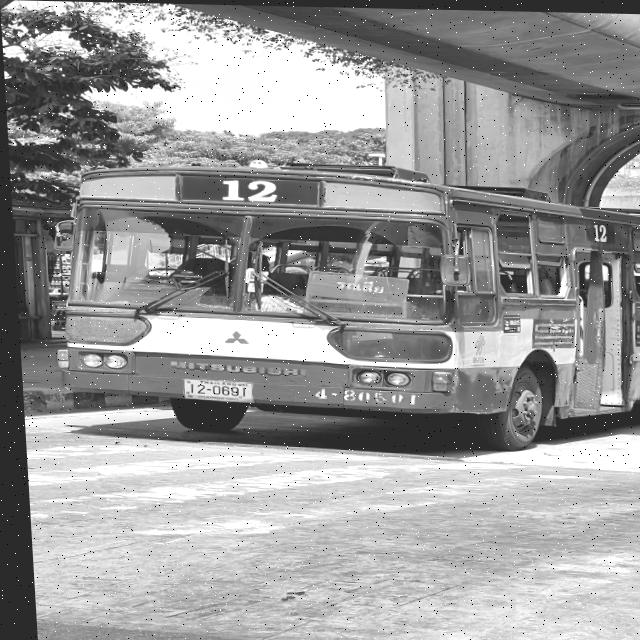BMTA-bus: (41, 160, 640, 452)
Bus-Line-Number: (197, 172, 304, 204)
Destination-Sign-Extra-Bus: (309, 273, 403, 303)
